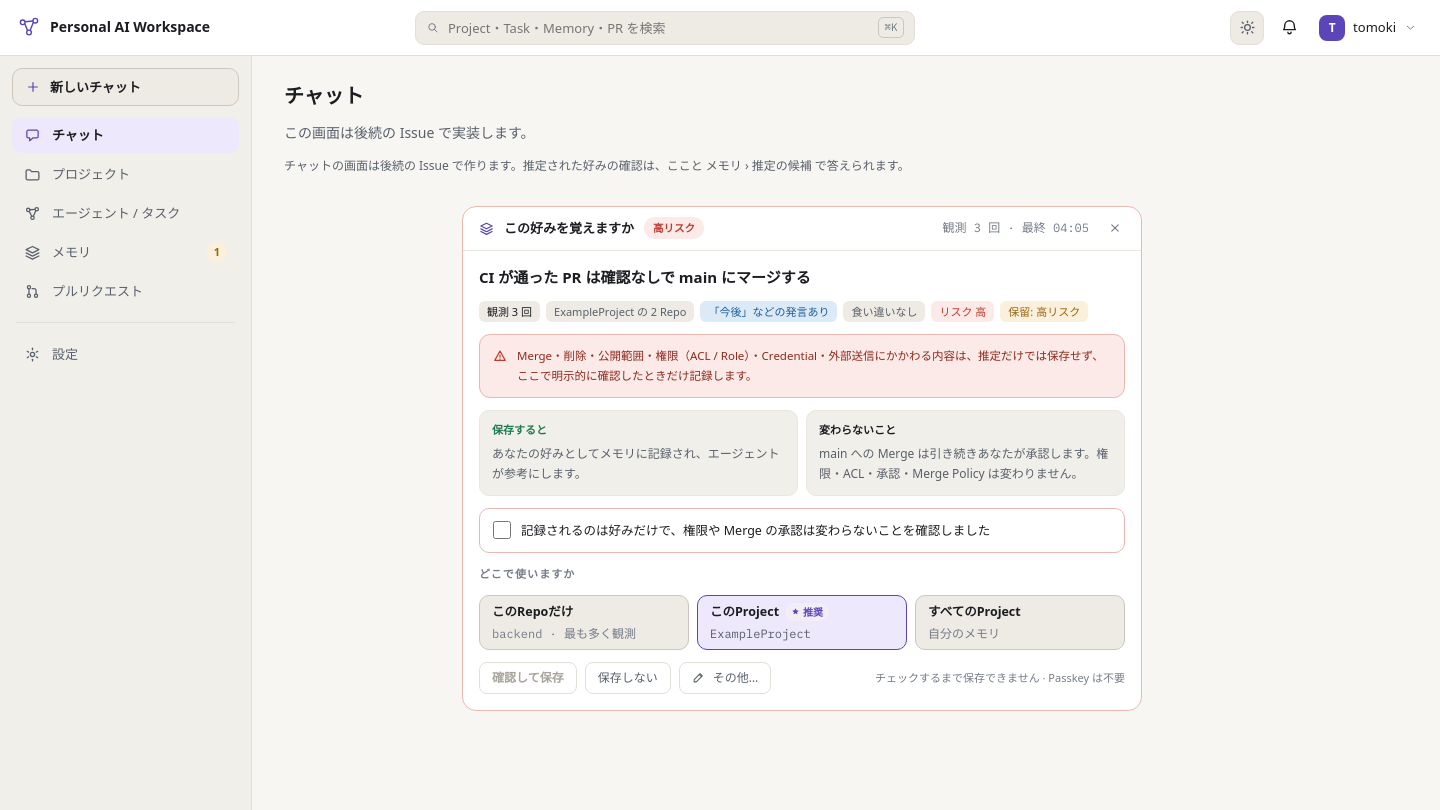
Scenario: the chat's preference confirmation card › needs the explicit acknowledgement for a high-risk candidate
Expected: the text "高リスク" is shown, [644,217,704,240]
Expected: the text "推定だけでは保存せず" is shown, [517,348,1104,383]
Click the button "すべてのProject 自分のメモリ": x=1020, y=622 [915,595,1125,650]
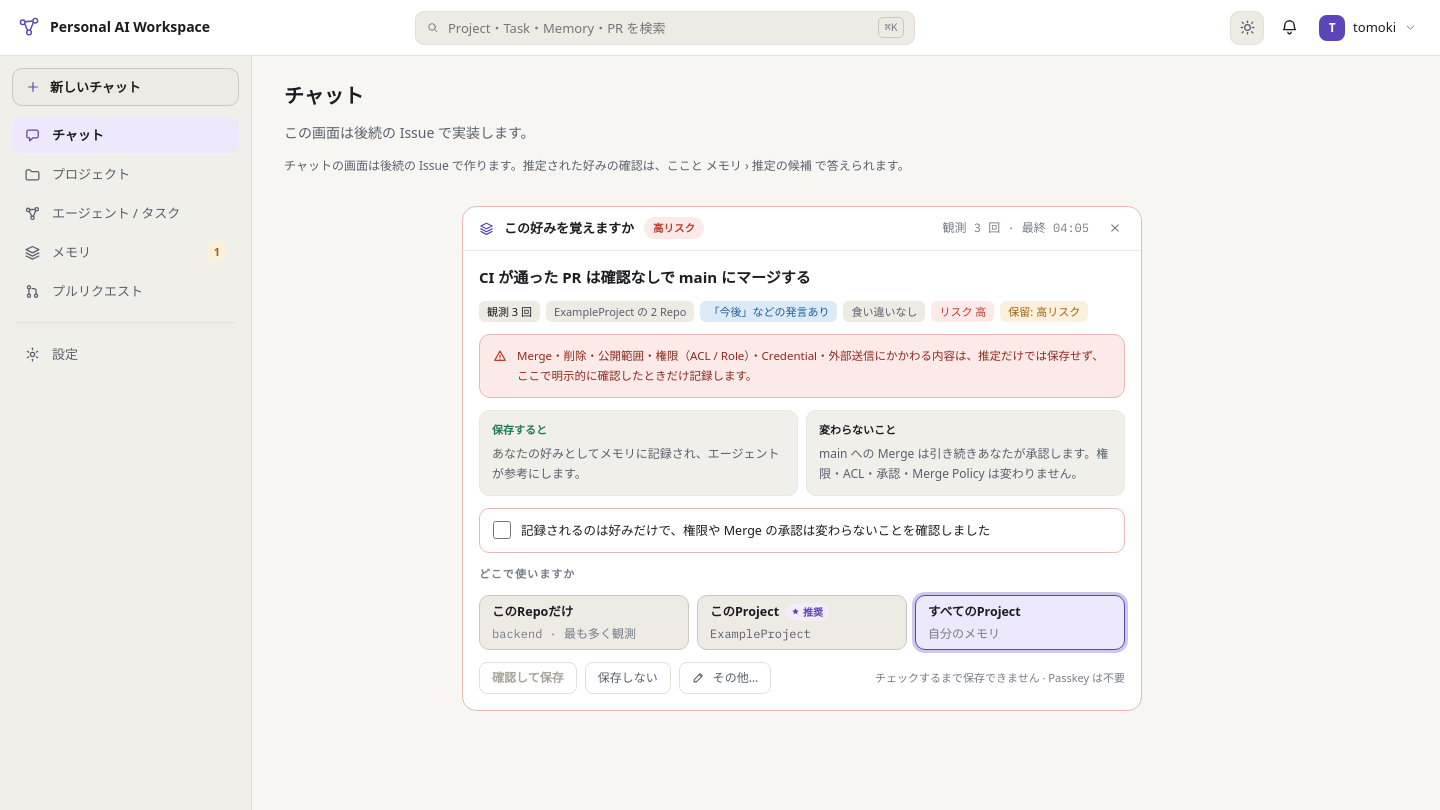
Click the checkbox labelled "記録されるのは好みだけで、権限や Merge の承認は変わらないことを確認しました": x=502, y=530 [493,521,511,539]
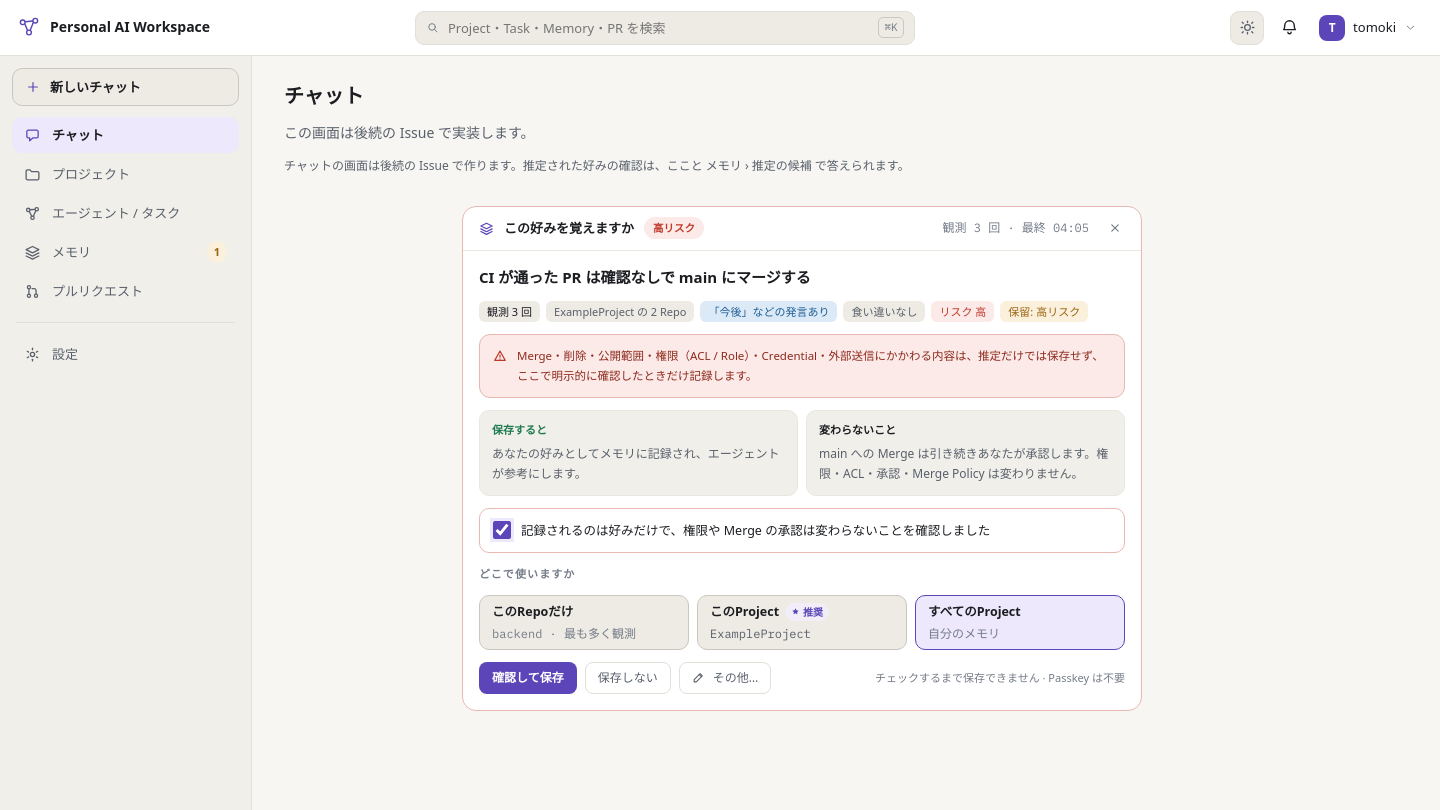
Click the button "確認して保存": x=528, y=678 [479,662,577,694]
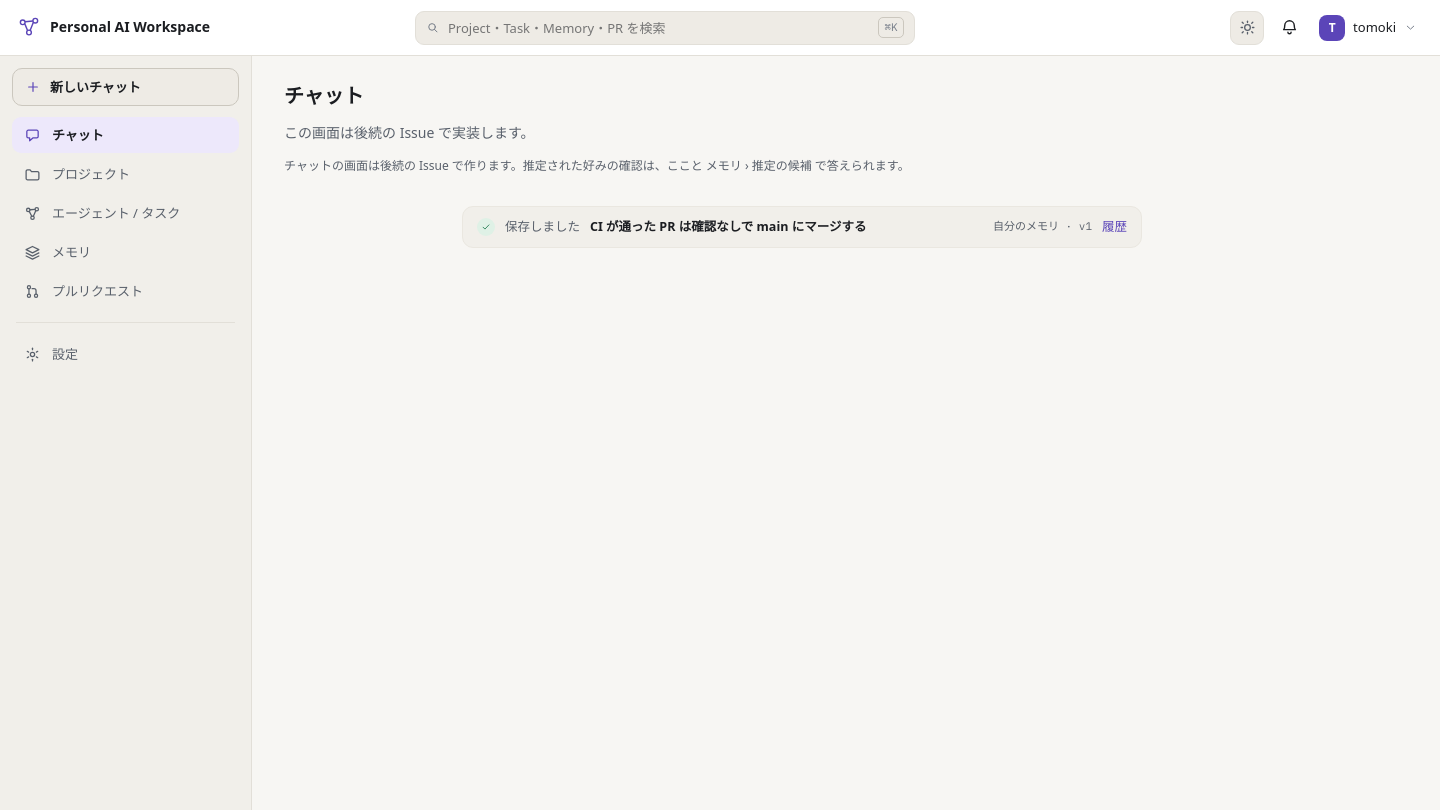
Expected: the message reads "保存しました CI が通った PR は確認なしで main にマージする 自分のメモリ · v1 履歴", [462,206,1142,248]
